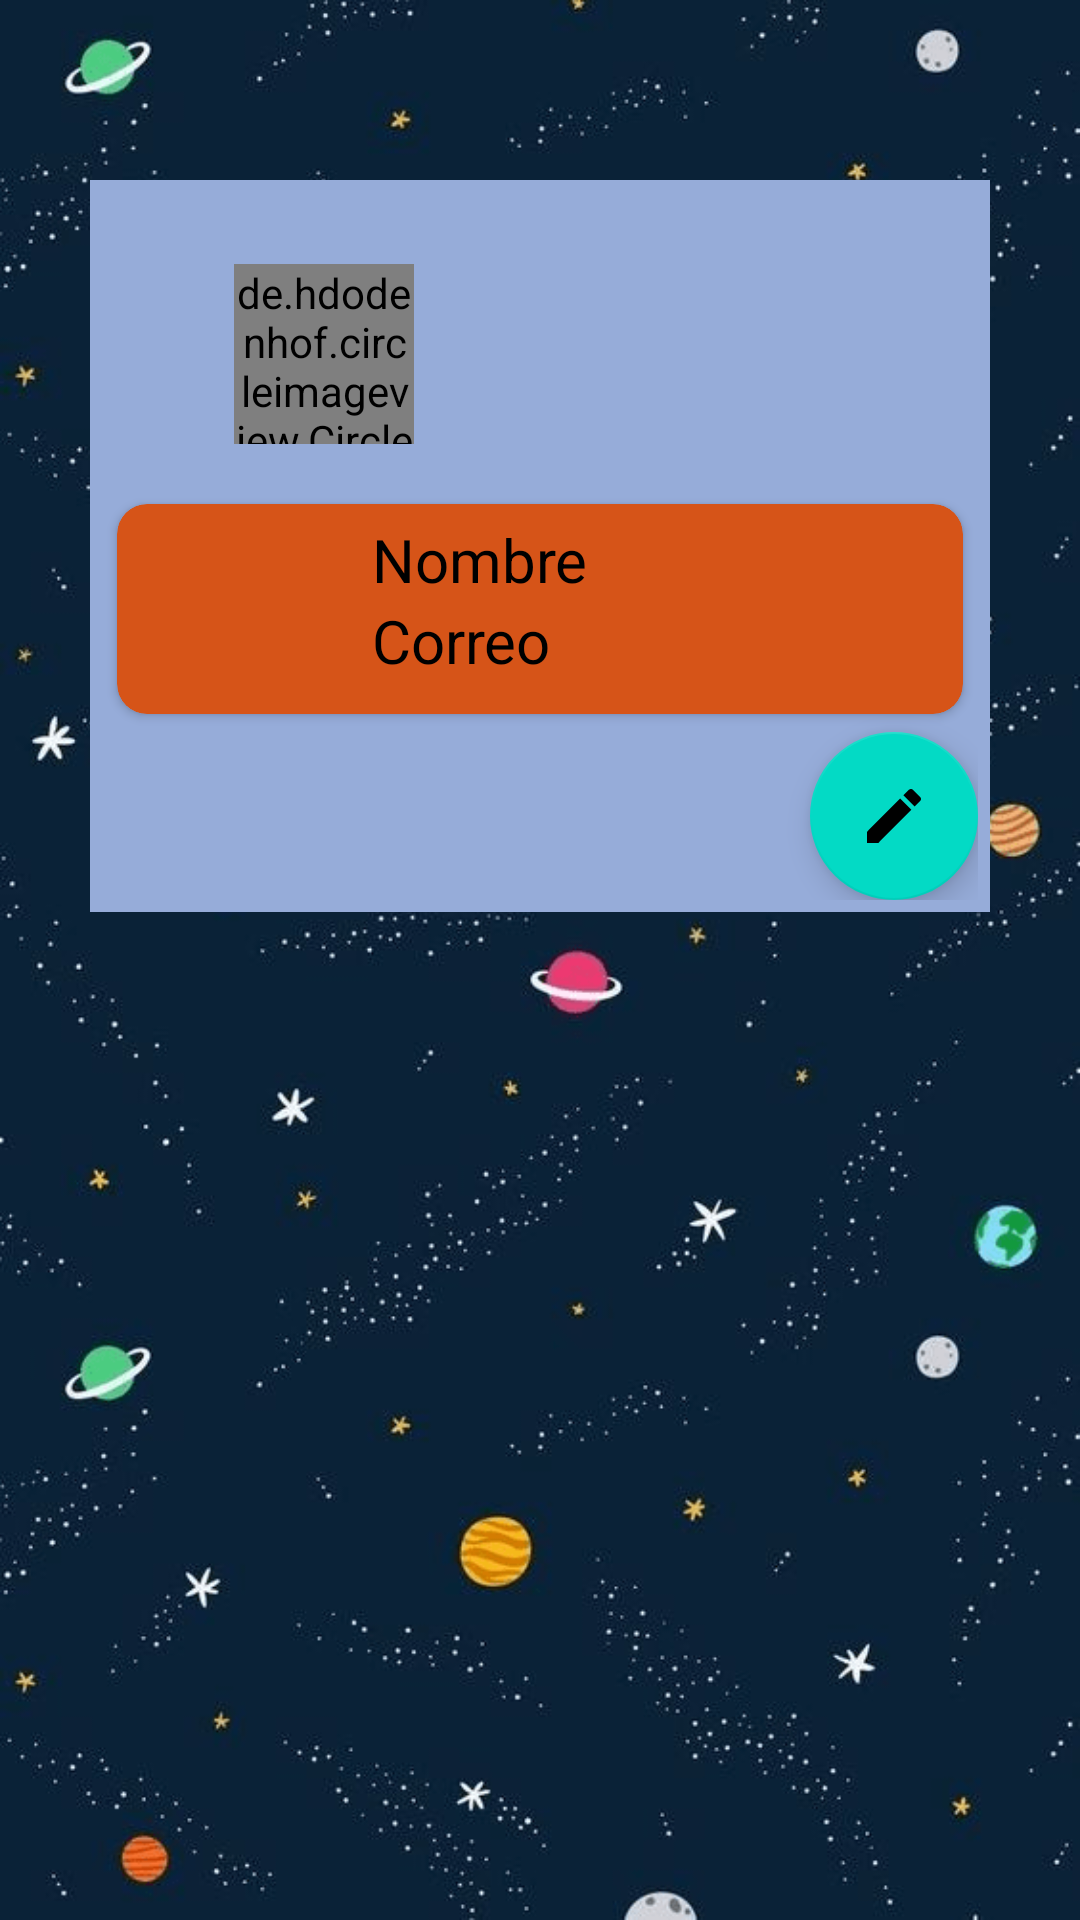

Icon bounding boxes for this 1080px×1920px phone screenshot, format Rect(x1, y1, x2, y2):
edit: Rect(810, 732, 978, 900)
